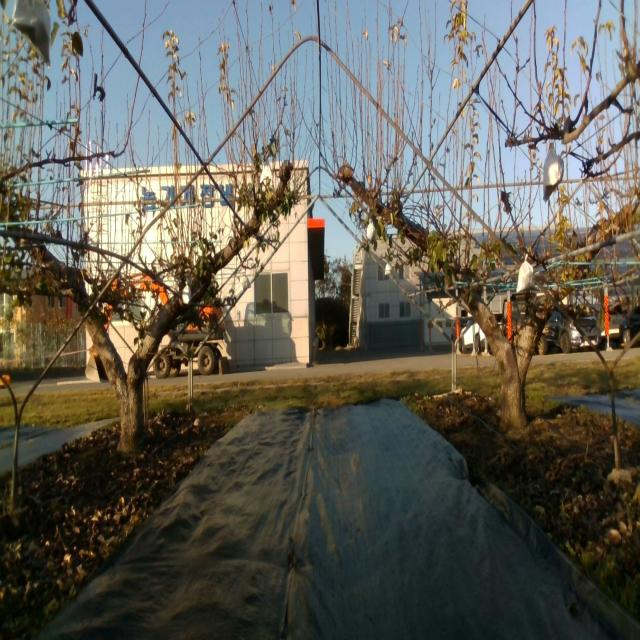pearbags: (11, 0, 51, 67), (542, 149, 564, 204), (516, 253, 533, 293), (259, 159, 272, 180)
